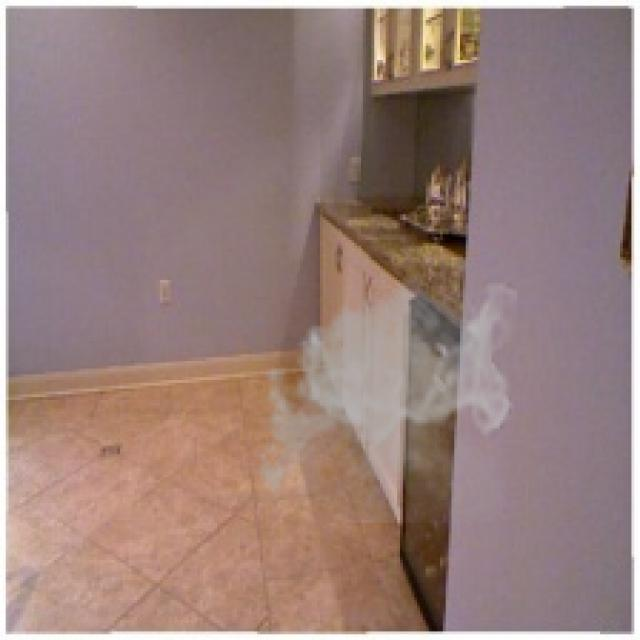Smoke: (248, 268, 518, 523)
